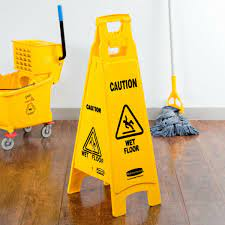wet caution sign: (64, 20, 173, 214)
